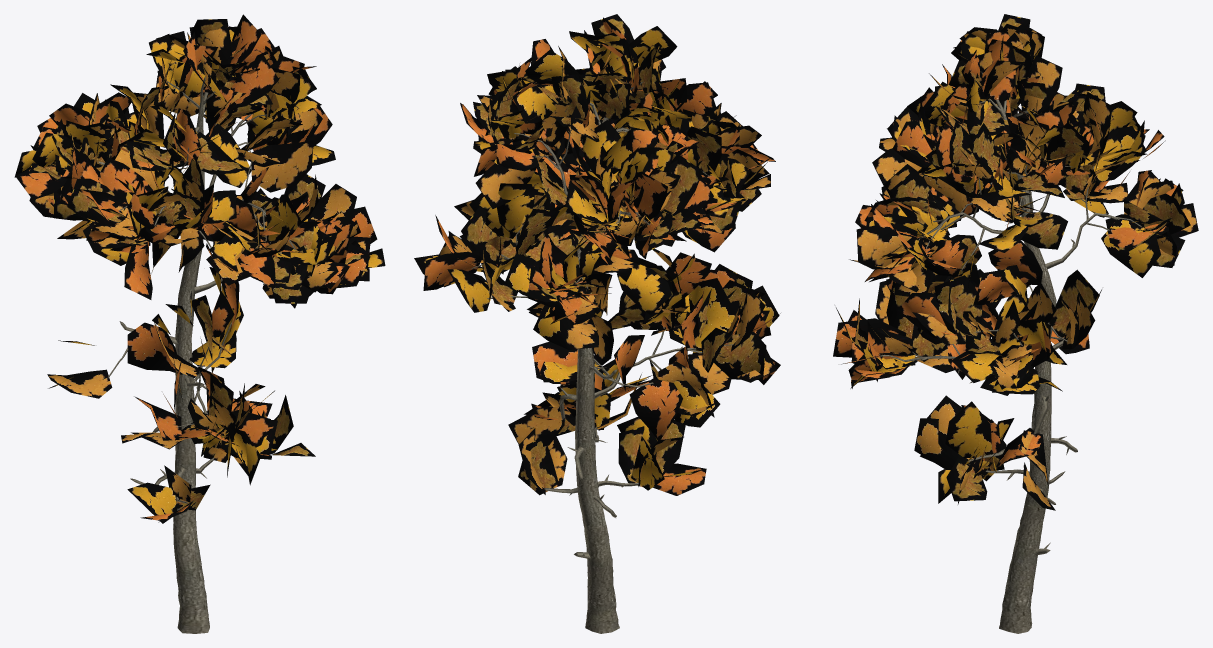
The model's file is Oak_White_Desktop_Forest_001_Yellow_b990ca.glb.
The picture shows the model from 3 angles, left to right: view 1: azimuth 30°, elevation 25°; view 2: azimuth 150°, elevation 25°; view 3: azimuth 270°, elevation 25°; orthographic projection. The views are drawn at different scales.
Bounding box in the file's own units: 6.43 × 11.09 × 6.59.
Materials: 2 (2 with a texture image).
